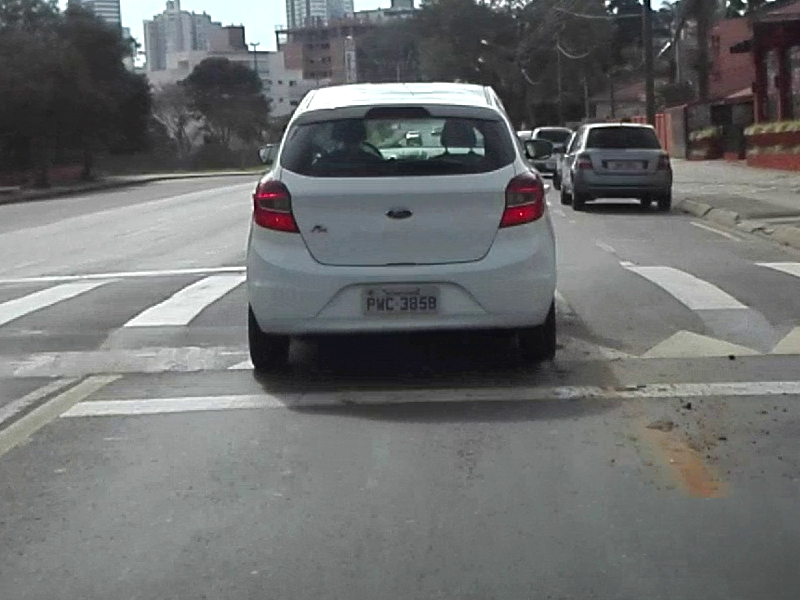placa: (361, 285, 440, 316)
